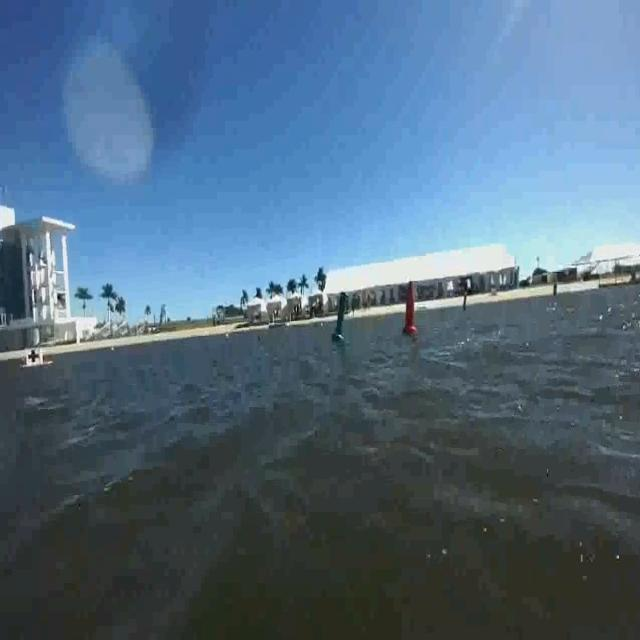green-column-buoy: (334, 290, 352, 342)
red-column-buoy: (402, 284, 420, 336)
